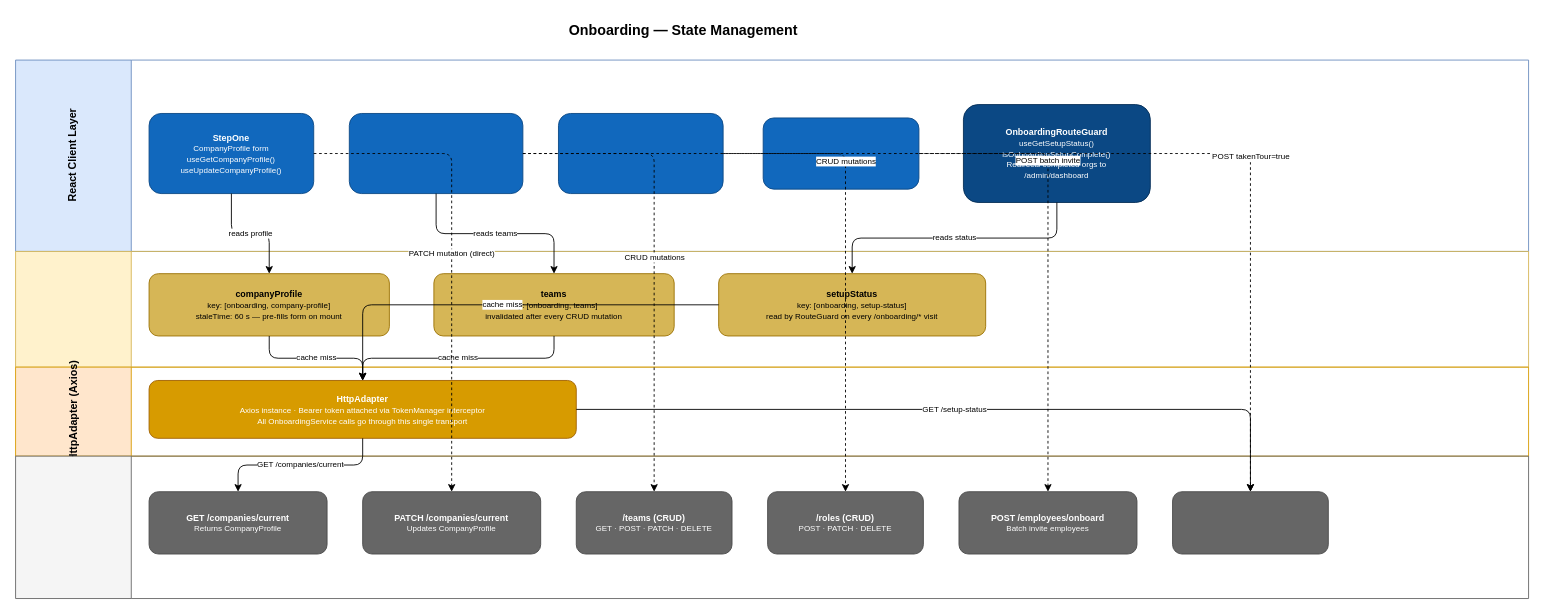
The diagram is 1544 pixels wide and 614 high, and some of its shapes have lost their labels. The shapes that lost their labels are listed below. From the top down, each one's box as (x1, y1, x2, y2) in pixels, then its label:
(348, 113, 523, 194): StepTwo TeamsSetup / RolesSetup useGetTeams() useCreateTeam() + useCreateRole()
(558, 113, 723, 194): StepThree EmployeeSetup form useGetTeamsWithRoles() useOnboardEmployees()
(762, 117, 919, 189): Welcome useTour() useSetSetupStatus()
(15, 251, 1529, 367): TanStack Query Cache (in-memory)
(15, 455, 1529, 599): HR Backend API (NestJS)
(1172, 491, 1328, 554): /setup-status GET · POST { takenTour }
